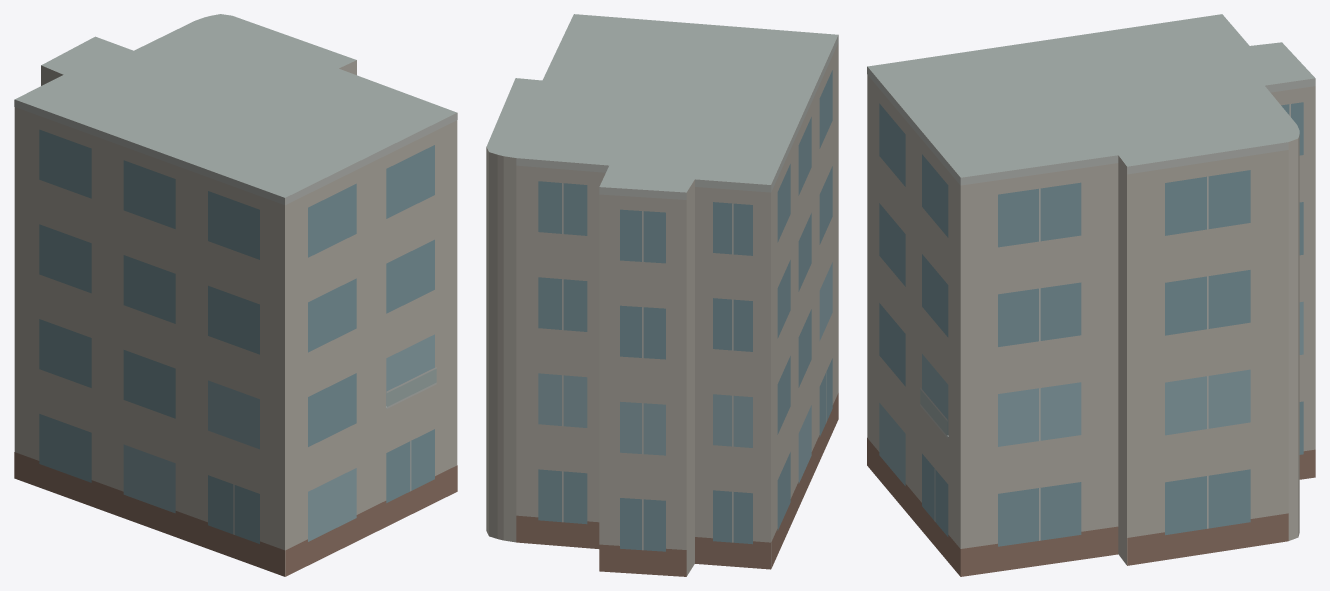
The model's file is survey-upis-33041970.glb.
The picture shows the model from 3 angles, left to right: view 1: azimuth 30°, elevation 25°; view 2: azimuth 150°, elevation 25°; view 3: azimuth 270°, elevation 25°; orthographic projection. The views are drawn at different scales.
Parts seen in each view (by area): view 1: survey-upis-33041970.tmp; view 2: survey-upis-33041970.tmp; view 3: survey-upis-33041970.tmp.
Part boxes in pixels (<box>): survey-upis-33041970.tmp: <box>14,14,457,576</box>; survey-upis-33041970.tmp: <box>486,14,838,576</box>; survey-upis-33041970.tmp: <box>867,14,1315,576</box>.
Bounding box in the file's own units: 11.02 × 12.51 × 12.75.
